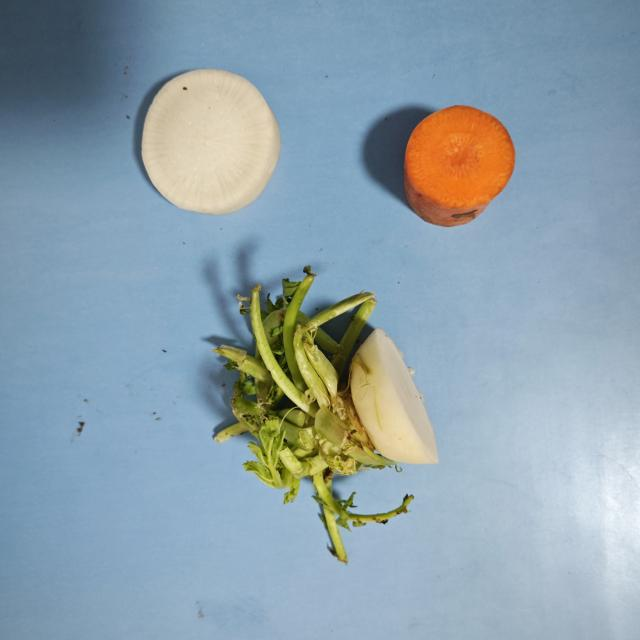-Kitchen waste - carrot-: (403, 106, 516, 226)
-Kitchen waste - white radish-: (206, 269, 442, 561), (140, 69, 276, 213)
